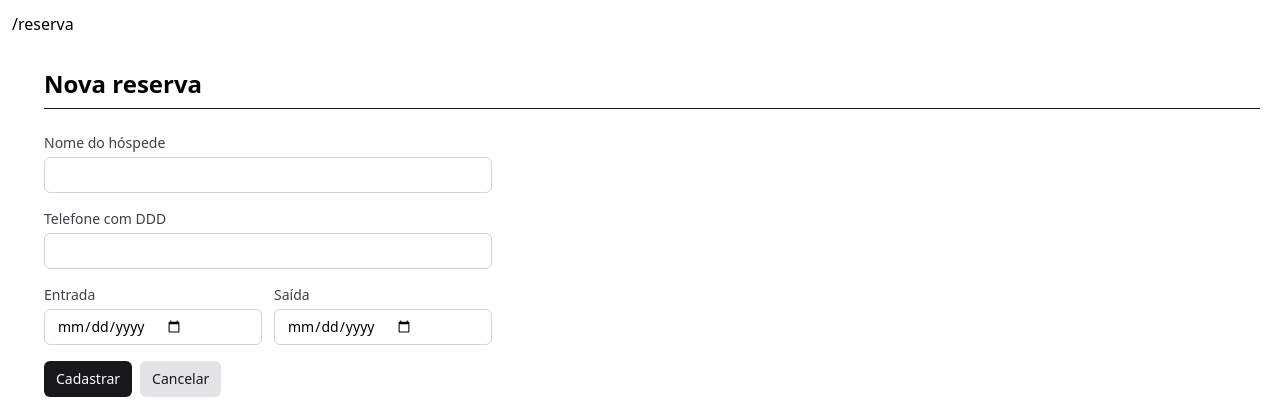
Scenario: TelaNovaReserva › submit válido posta JSON ISO e volta à fila quando a reserva aparece
Type "Marina Duarte" into the field labelled "Nome do hóspede" at (268, 175), box [44, 157, 492, 193]
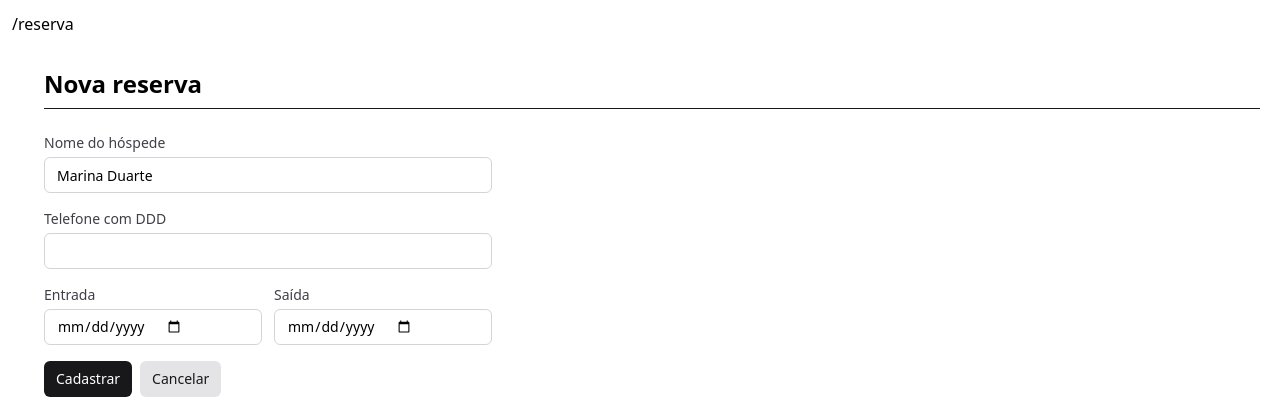
Type "(11) 98765-4321" into the field labelled "Telefone com DDD" at (268, 251), box [44, 233, 492, 269]
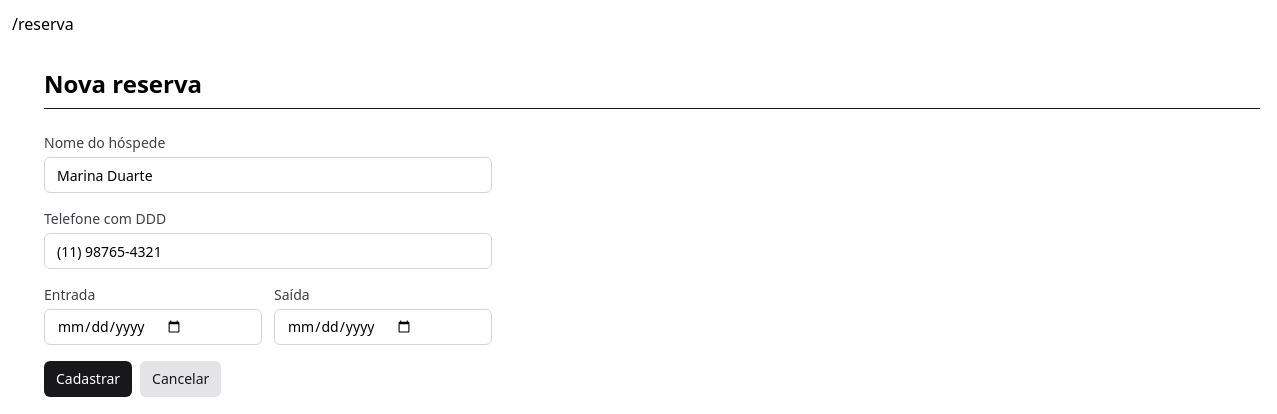
Type "2026-08-31" into the date field labelled "Entrada" at (153, 327), box [44, 309, 262, 345]
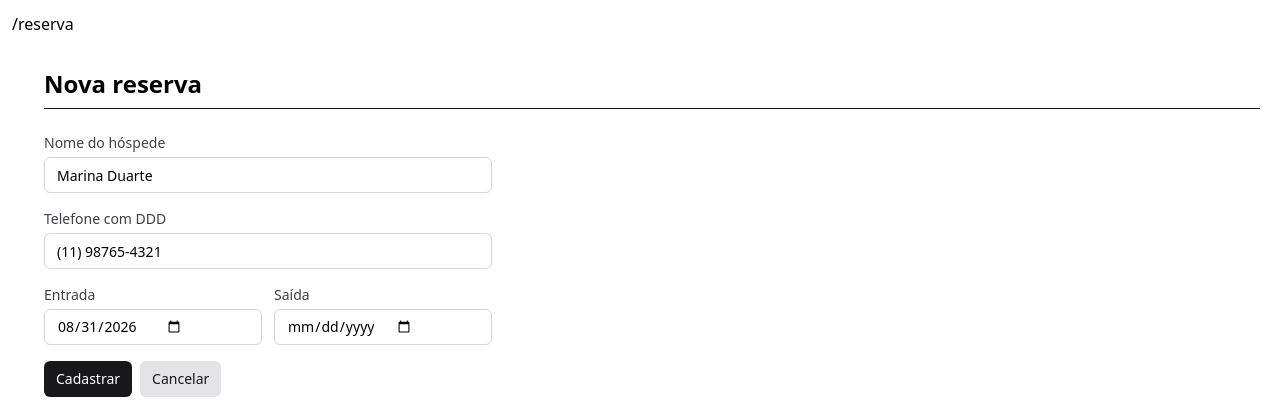
Type "2026-09-02" into the date field labelled "Saída" at (383, 327), box [274, 309, 492, 345]
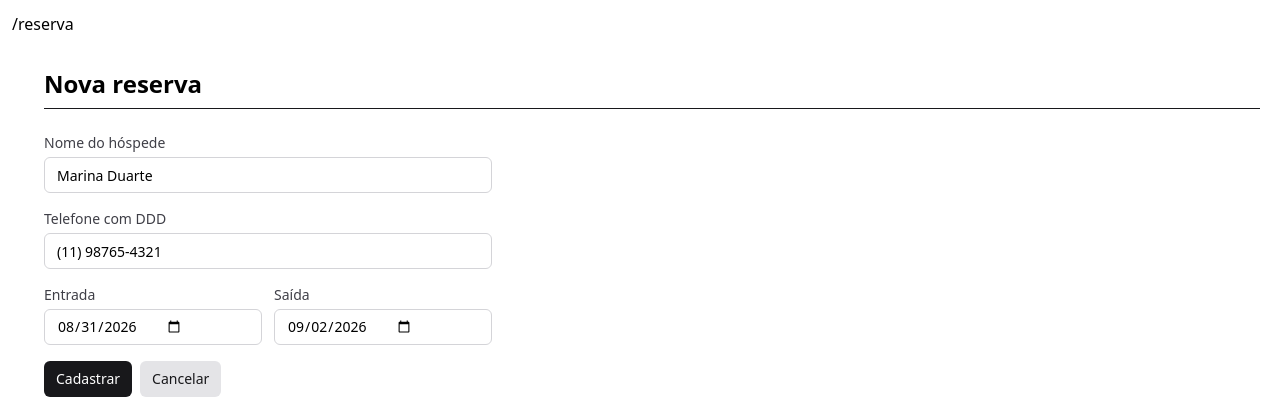
Click the button "Cadastrar" at (88, 379), box [44, 361, 132, 397]
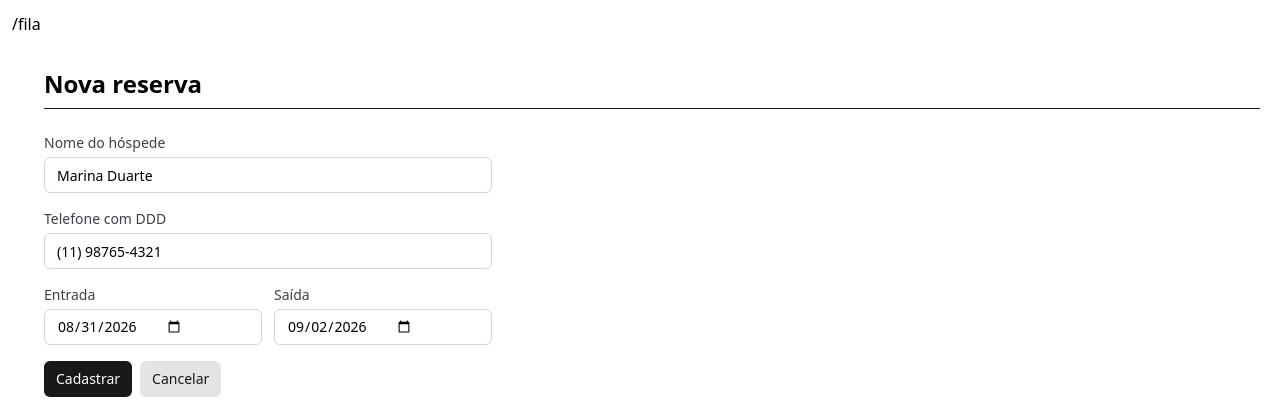
Expected: the text with test id "path" reads "/fila", [12, 13, 41, 35]
